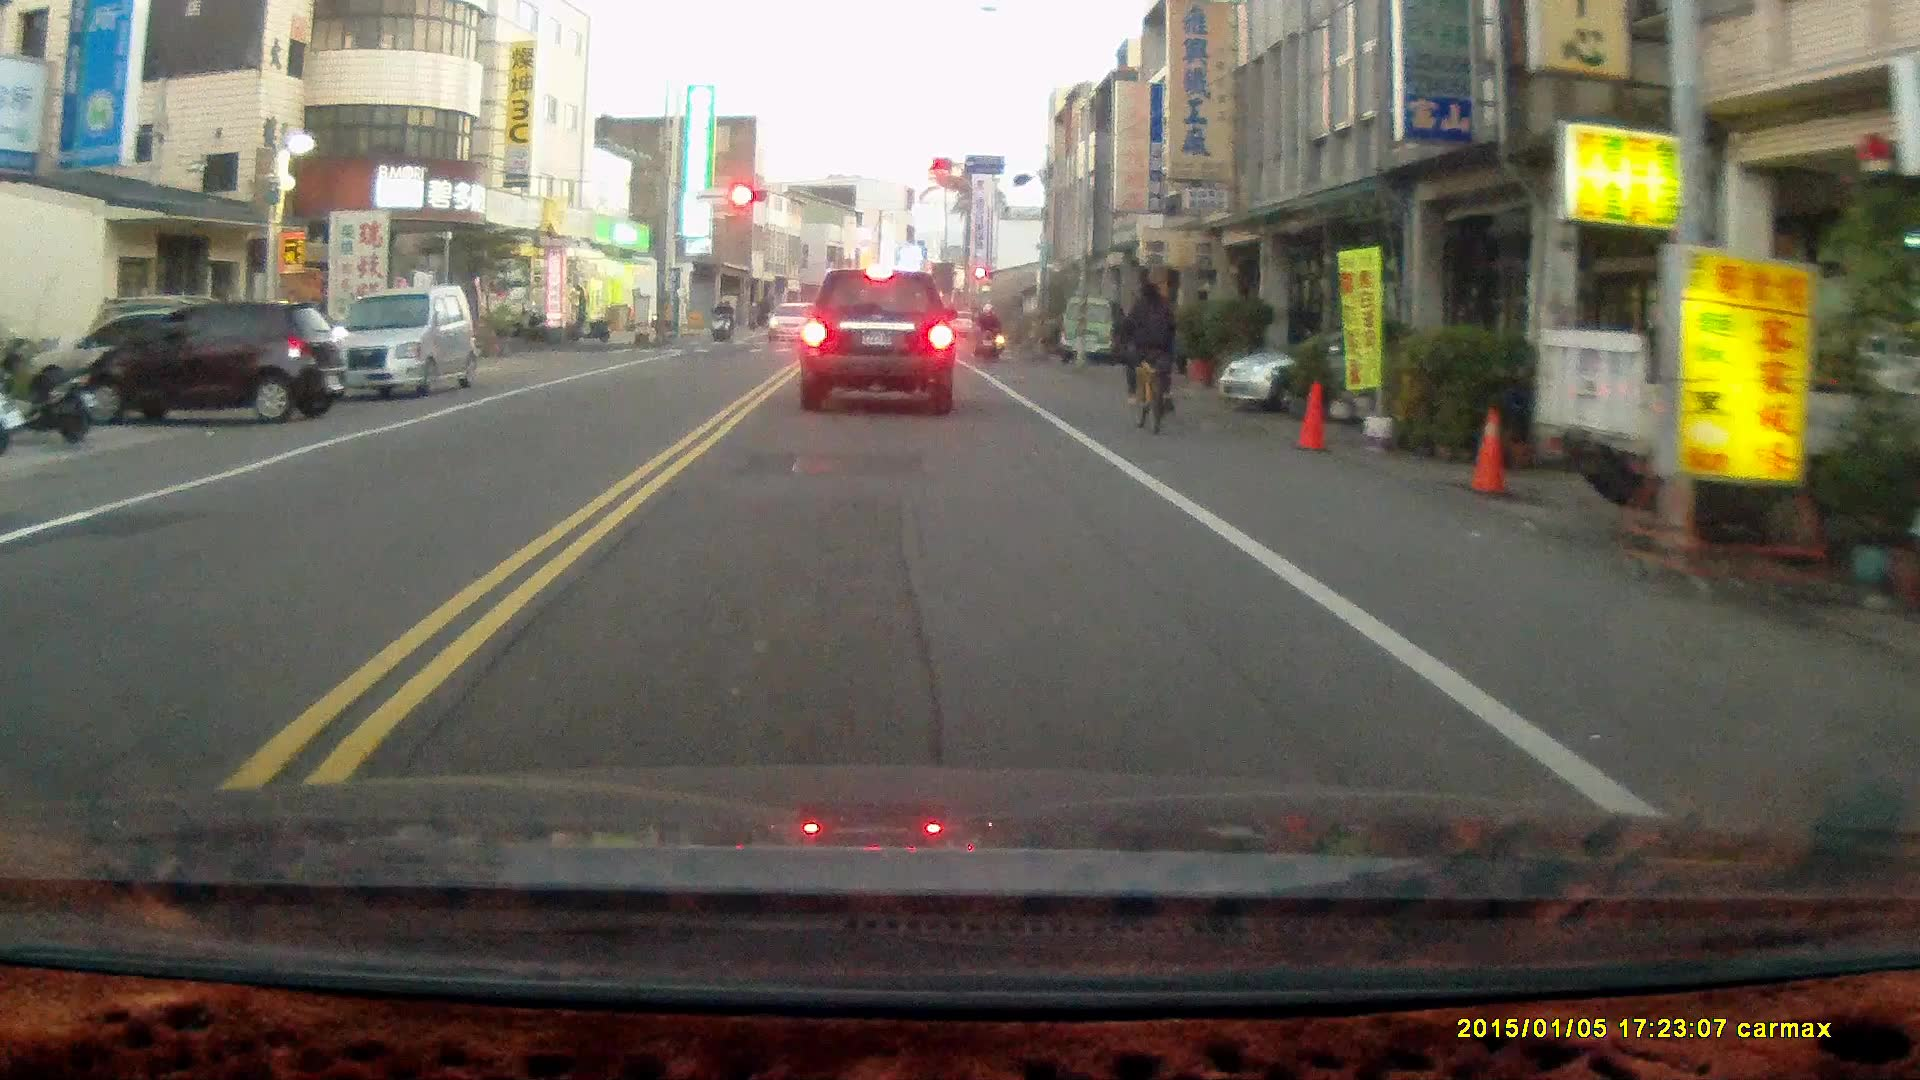rider: (1122, 277, 1177, 436), (970, 297, 1002, 361), (707, 296, 730, 342)
vehicle: (70, 297, 352, 430), (1217, 322, 1478, 416), (796, 266, 958, 417), (321, 283, 477, 402), (1060, 297, 1123, 363)
